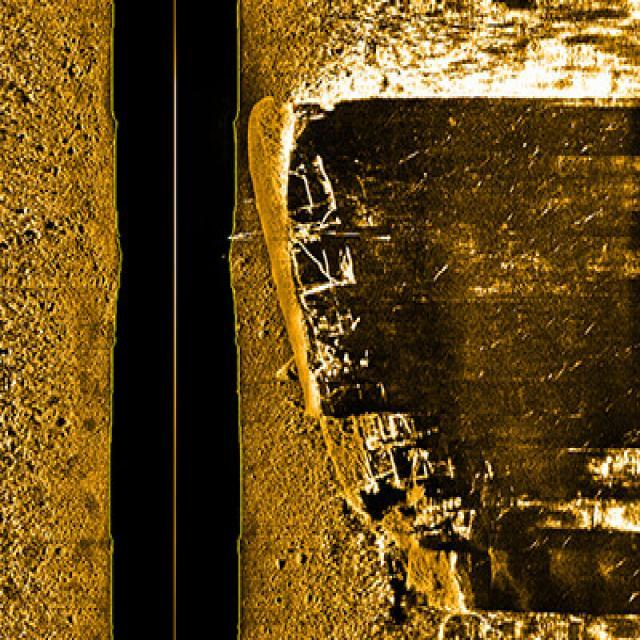shipwreck: (248, 94, 477, 602)
